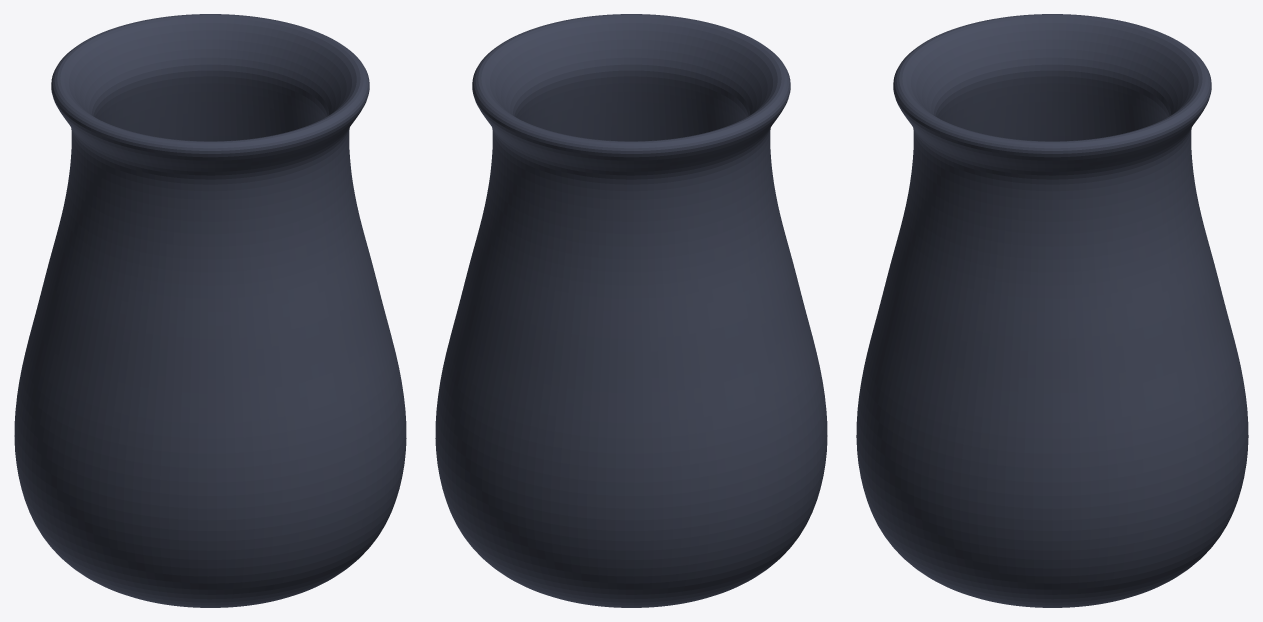
The model's file is Cannon.fbx.
The picture shows the model from 3 angles, left to right: view 1: azimuth 30°, elevation 25°; view 2: azimuth 150°, elevation 25°; view 3: azimuth 270°, elevation 25°; orthographic projection.
Parts seen in each view (by area): view 1: Cannon; view 2: Cannon; view 3: Cannon.
Boxes of the visible parts, x1=… form: Cannon: x1=14, y1=14, x2=406, y2=607; Cannon: x1=435, y1=14, x2=827, y2=607; Cannon: x1=856, y1=14, x2=1248, y2=607.
Size of the model in its own units: 240 by 328 by 240.
